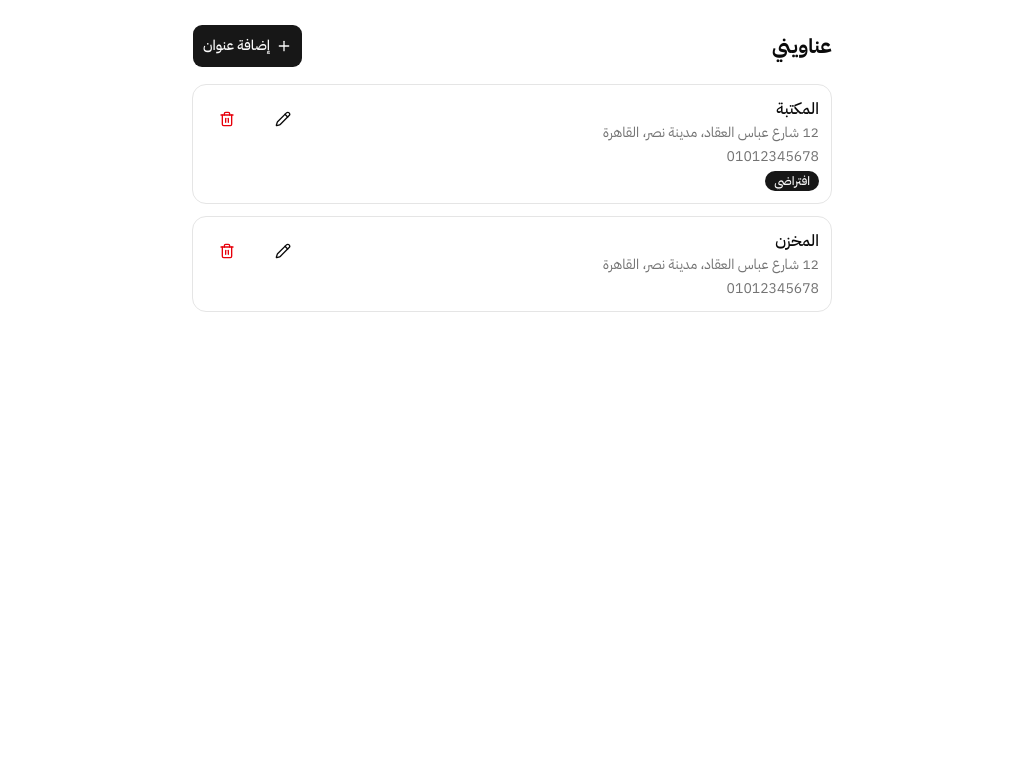
AddressList › edits an address and can make it the default
Click the button named "تعديل العنوان" in the row of "المخزن" at [283, 251], box x1=261 y1=229 x2=305 y2=273
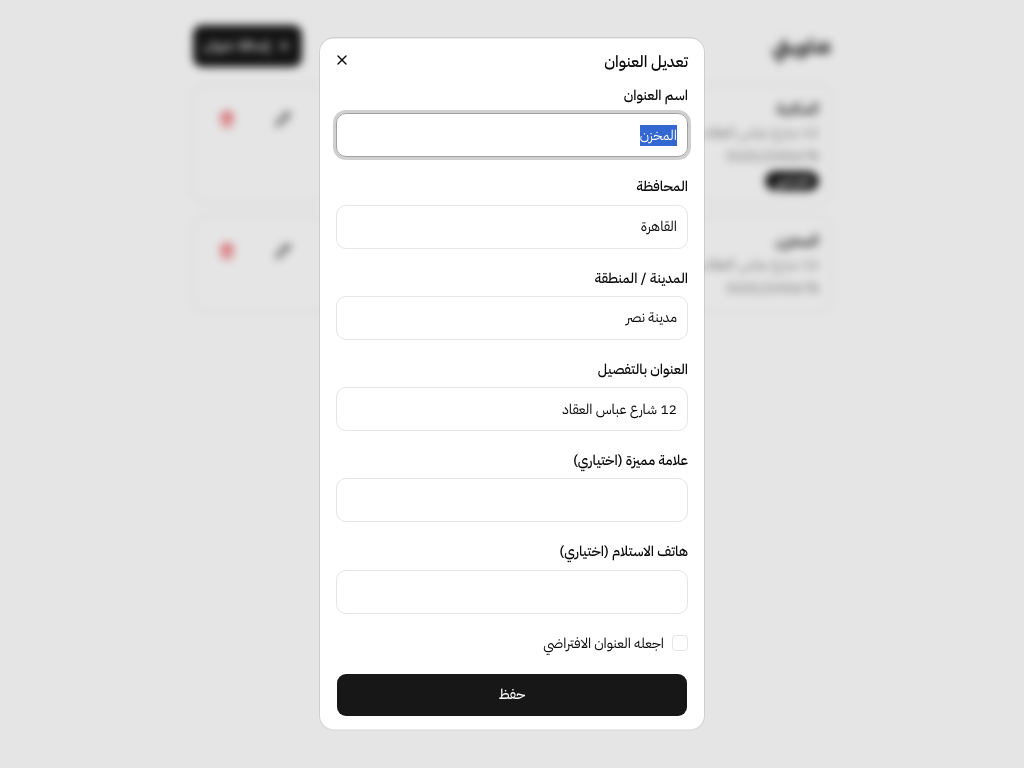
Expected: the field labelled "اسم العنوان" holds "المخزن", x1=336 y1=114 x2=688 y2=158
Click the checkbox named "اجعله العنوان الافتراضي" at [680, 644], box x1=672 y1=636 x2=688 y2=652
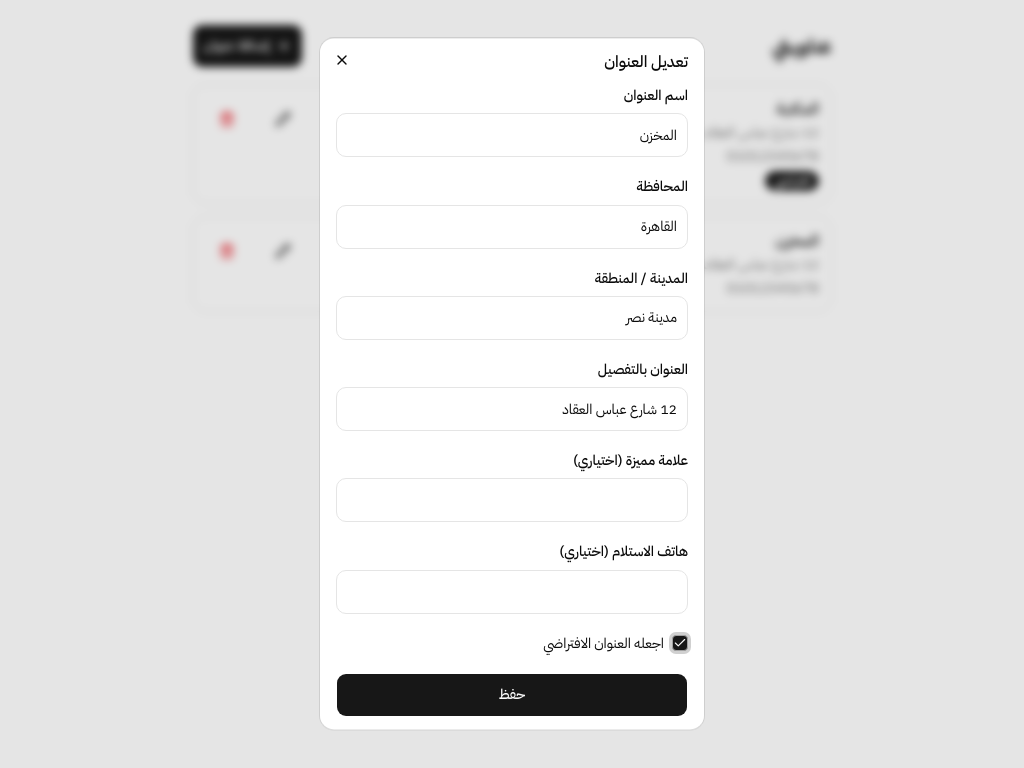
Click the button "حفظ" at [512, 695], box x1=336 y1=673 x2=688 y2=717
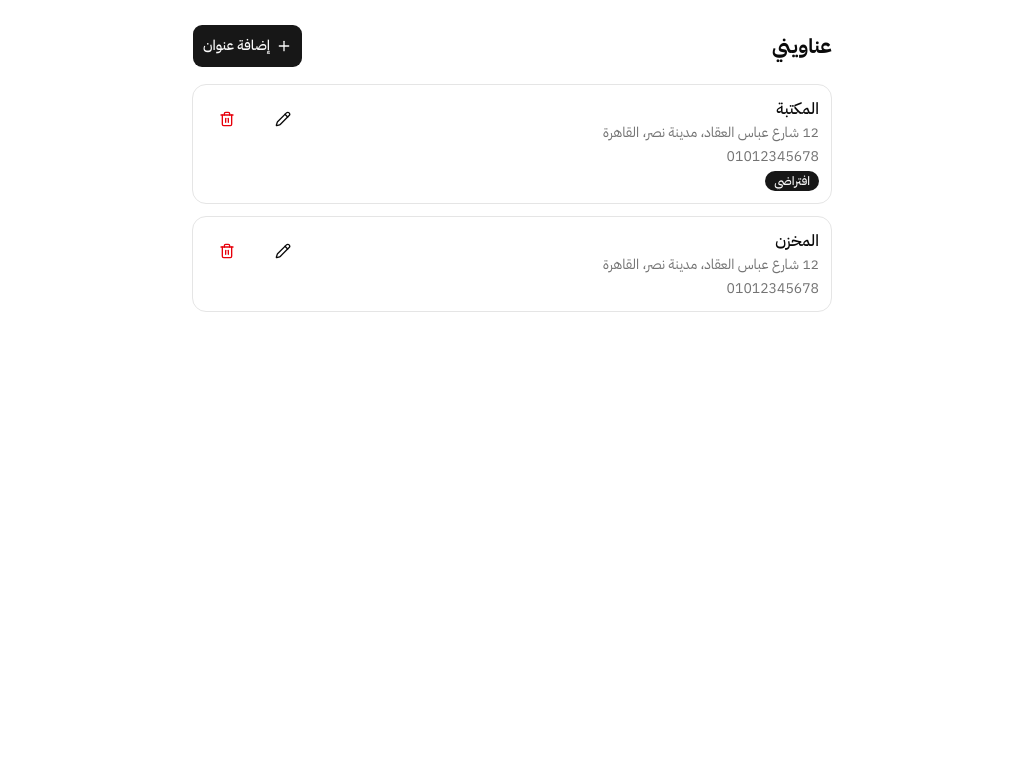
Expected: the dialog is gone
